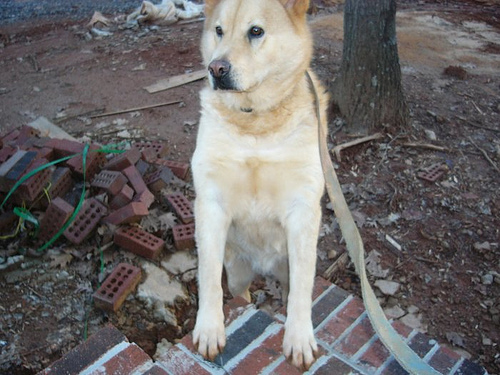dog: (190, 1, 329, 369)
